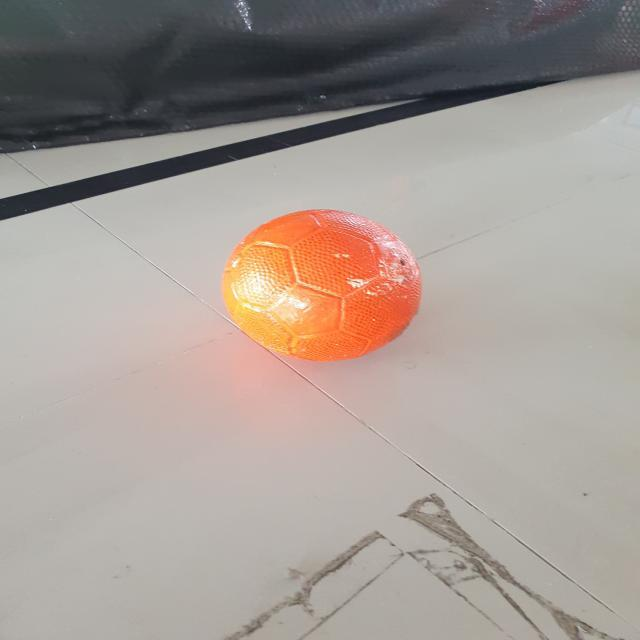bola: (220, 202, 433, 371)
